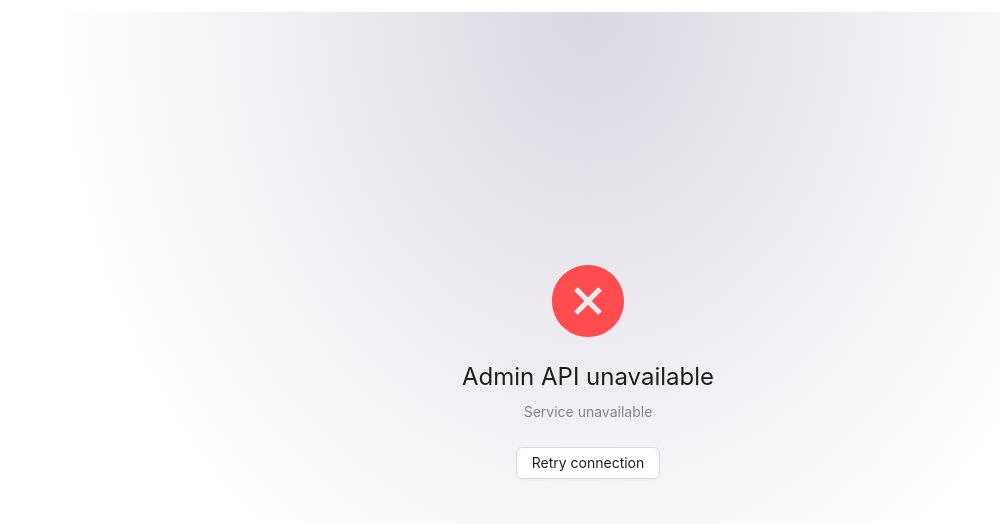
Test: authentication and protected routes › recovers after the session service fails
Click the button "Retry connection" at (588, 463), box x1=516 y1=447 x2=660 y2=479
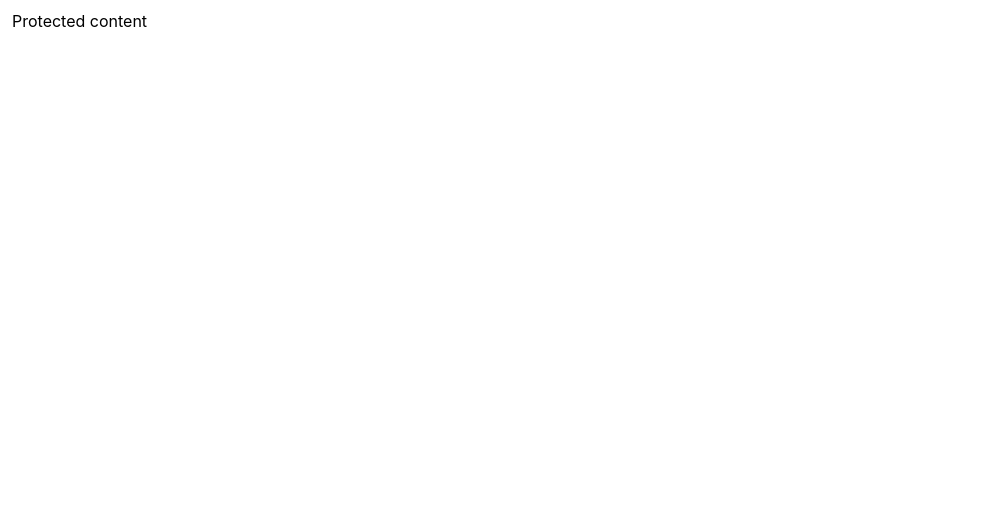
Check: the text "Protected content" is shown, box x1=12 y1=11 x2=147 y2=31
